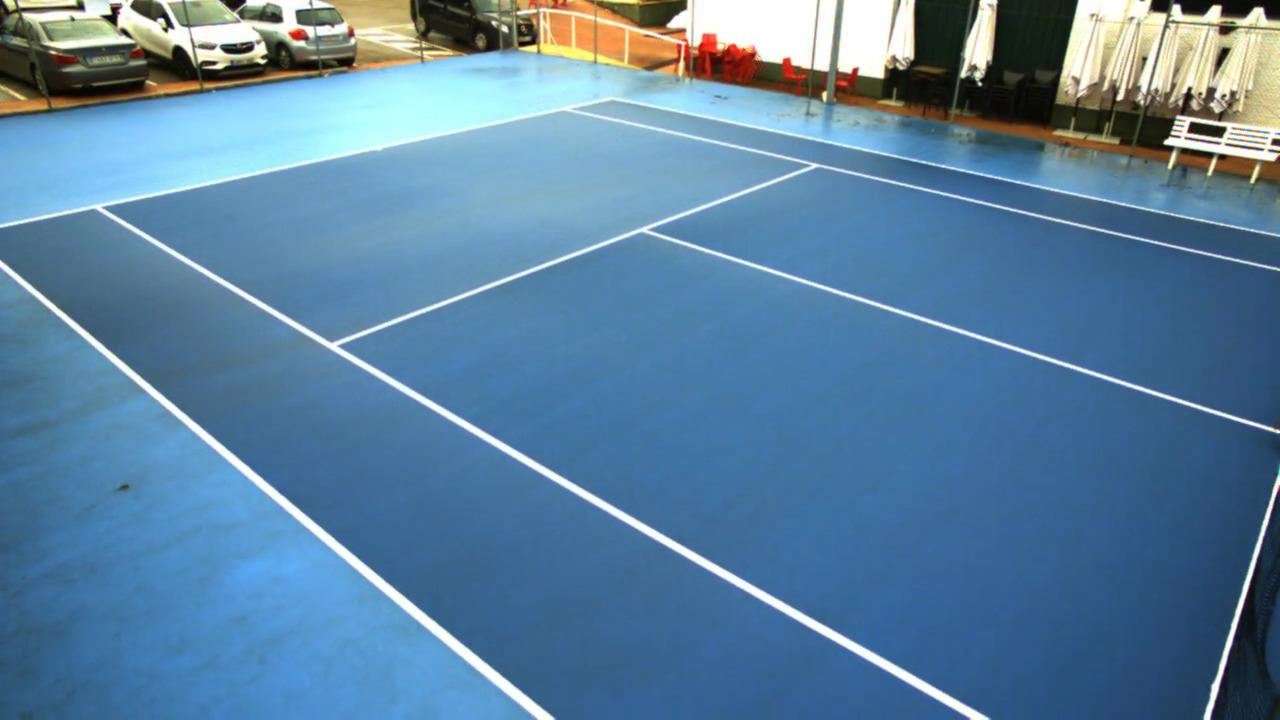cancha_tenis: (92, 108, 1280, 720)
point_f1: (83, 194, 116, 221)
point_f2: (553, 102, 583, 119)
point_fc1: (370, 141, 387, 156)
point_i1: (315, 330, 351, 358)
point_i2: (798, 155, 828, 178)
point_ic1: (629, 220, 658, 242)
